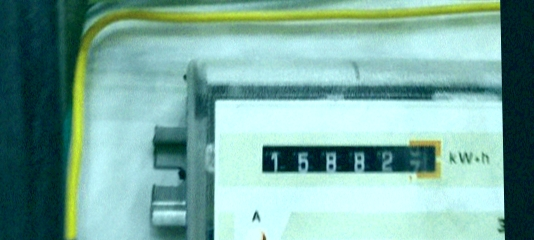1: (270, 148, 284, 170)
2: (381, 148, 397, 172)
5: (298, 147, 312, 173)
7: (411, 154, 423, 171)
8: (354, 148, 368, 173), (326, 149, 339, 172)
screen: (255, 131, 453, 189)
